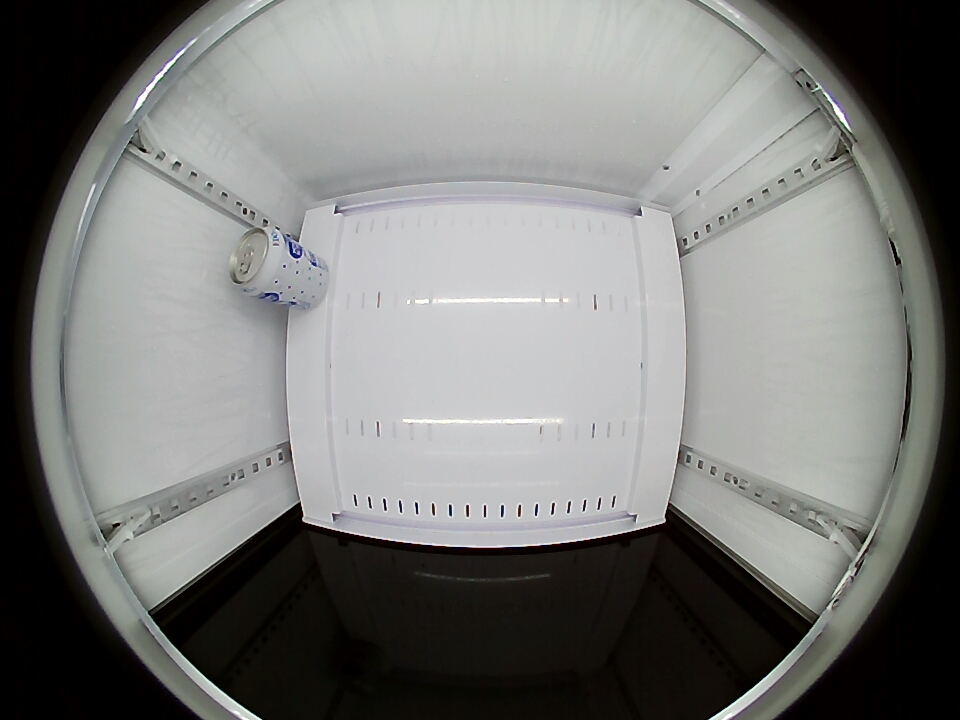rusuanjunqishui: (228, 227, 292, 299)
